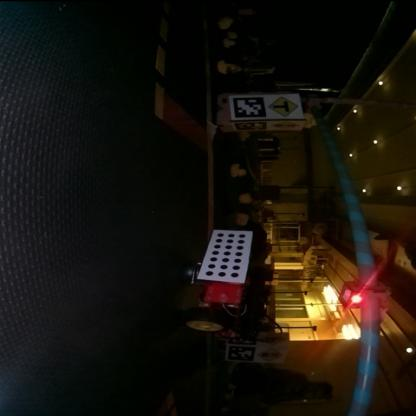Duckie: (219, 62, 233, 74), (231, 166, 247, 176), (240, 192, 253, 204), (222, 18, 230, 29)
Duckiebot: (189, 230, 269, 338)
Intersection sign: (273, 94, 300, 117)
QR code: (235, 96, 268, 118), (228, 344, 256, 361), (235, 120, 267, 132)
Signal sign: (260, 347, 285, 363), (272, 120, 300, 130)
Traffic light: (346, 286, 390, 309)
